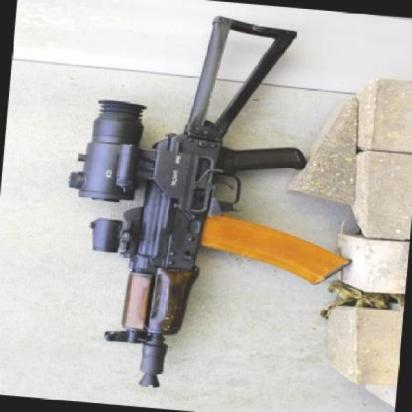Gun: (66, 14, 354, 390)
